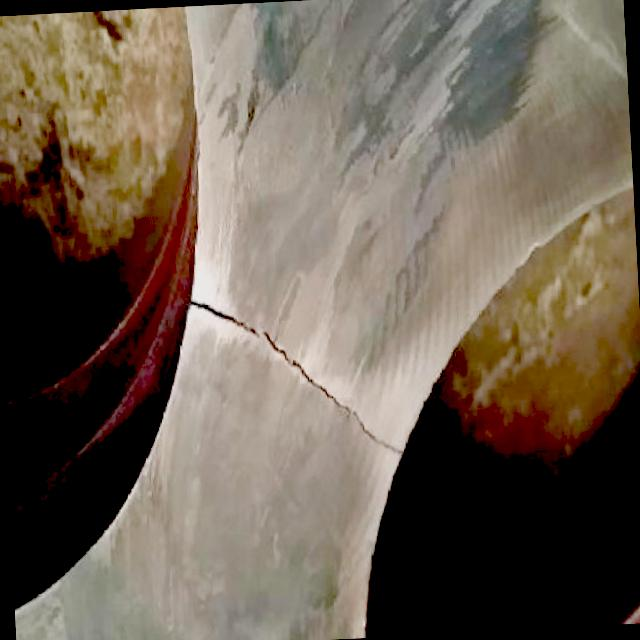crack: (179, 283, 408, 467)
